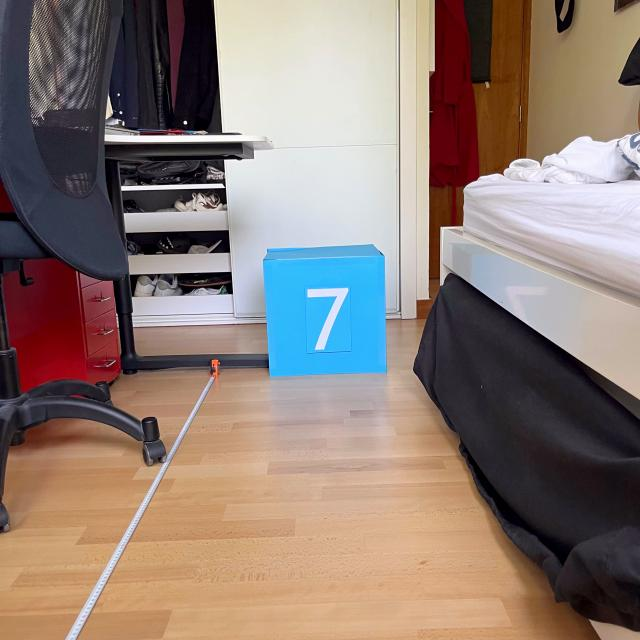box: (258, 240, 391, 378)
